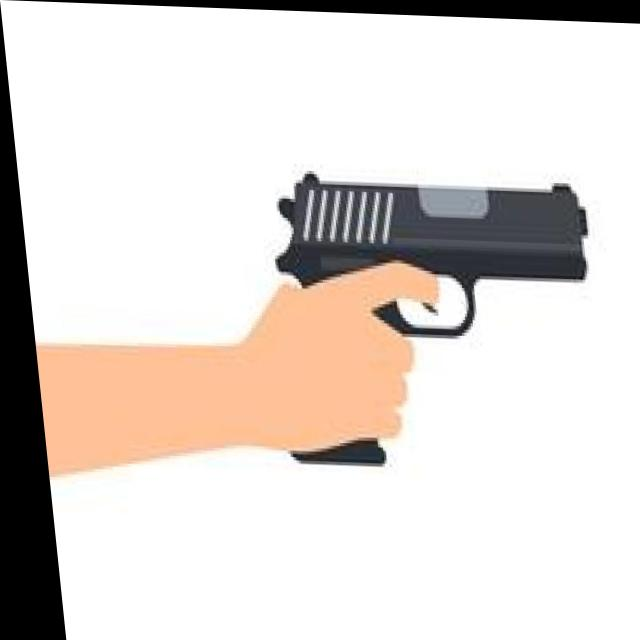handgun: (257, 164, 602, 469)
